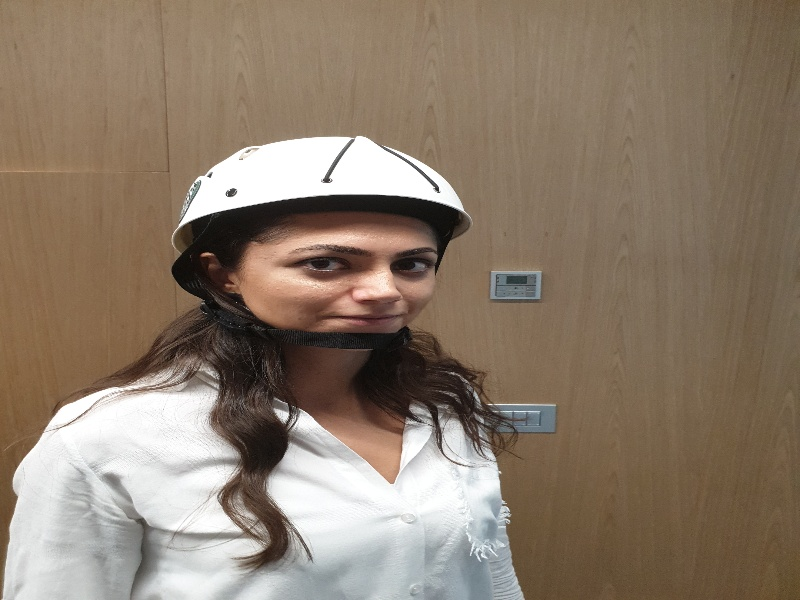Baret: (173, 134, 469, 233)
